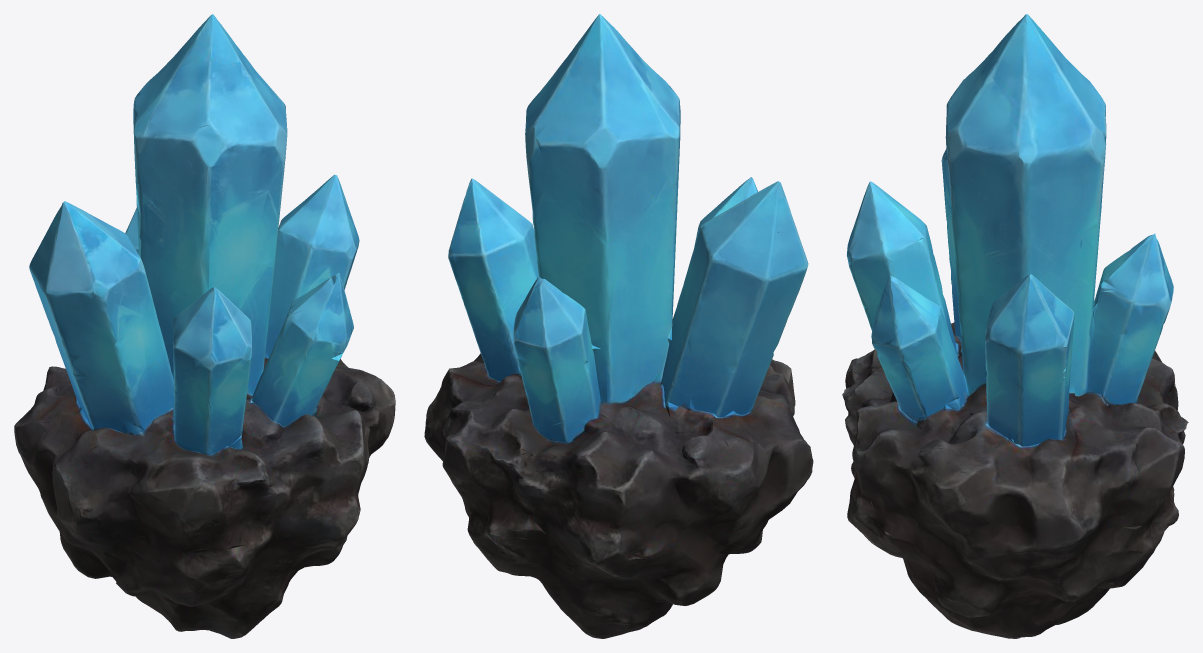
The model's file is cristal-grappe.glb.
3 renders of one model, left to right at view 1: azimuth 30°, elevation 25°; view 2: azimuth 150°, elevation 25°; view 3: azimuth 270°, elevation 25°, orthographic. The views are drawn at different scales.
Size of the model in its own units: 0.572 by 0.98 by 0.4955.
1 material, 1 textured.
